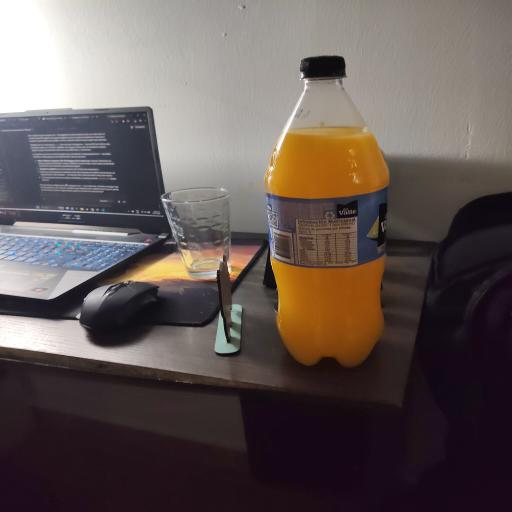Jugo del valle: (266, 56, 388, 367)
